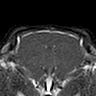Brain: (20, 33, 81, 72)
